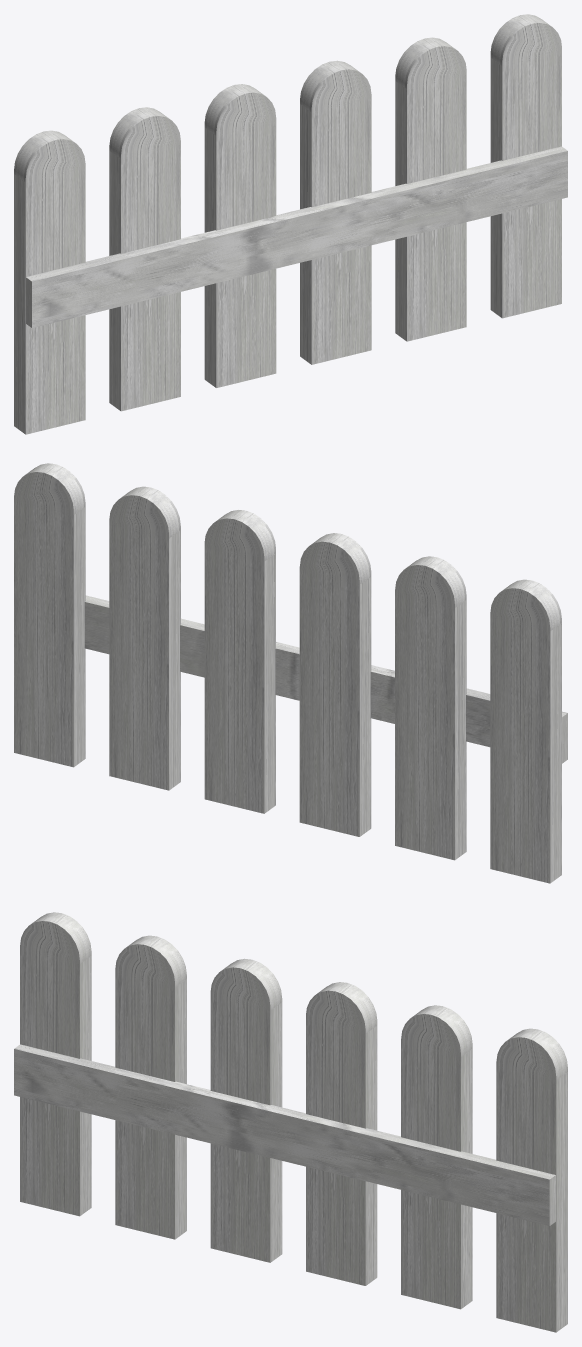
The model's file is WhitWall.fbx.
3 views of the same model, one above another, from view 1: azimuth 30°, elevation 25°; view 2: azimuth 150°, elevation 25°; view 3: azimuth 330°, elevation 25° (orthographic).
Parts seen in each view (by area): view 1: pCube8; view 2: pCube8; view 3: pCube8.
Boxes of the visible parts, left/top/right/bottom form: pCube8: left=14, top=14, right=567, bottom=434; pCube8: left=14, top=463, right=567, bottom=883; pCube8: left=14, top=912, right=567, bottom=1332.
Size of the model in its own units: 79.06 by 40.5 by 4.58.
1 material, 1 textured.
